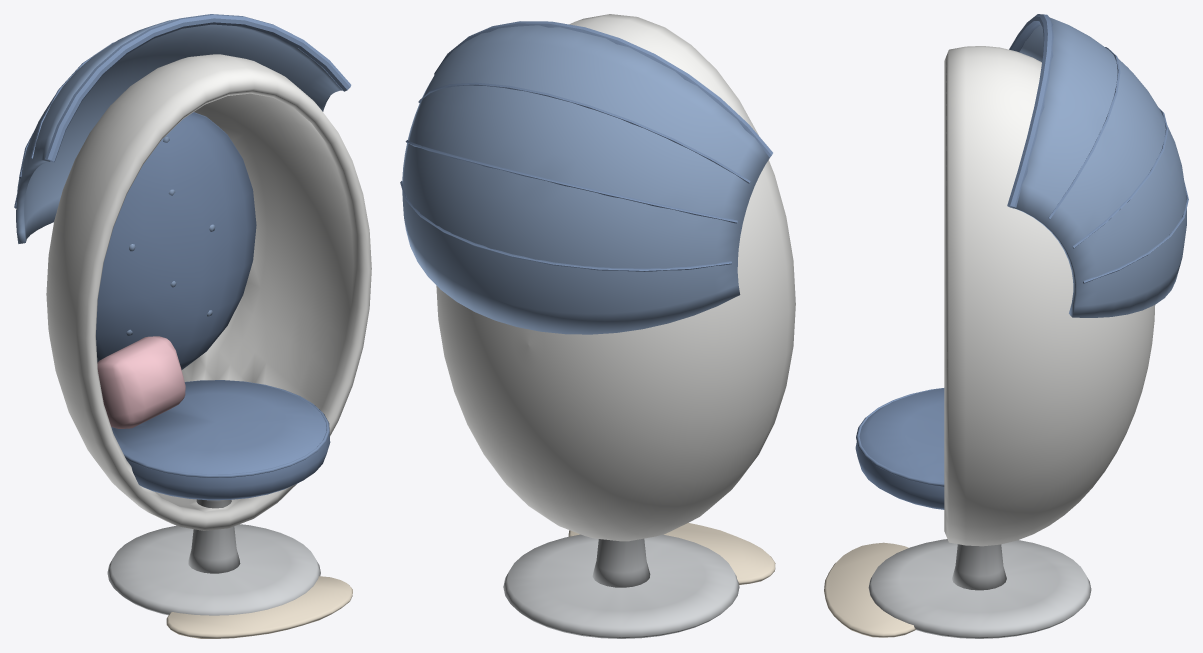
Rendered from napPod.glb.
3 views of the same model, side by side, from view 1: azimuth 30°, elevation 25°; view 2: azimuth 150°, elevation 25°; view 3: azimuth 270°, elevation 25° (orthographic). The views are drawn at different scales.
Visible parts, largest first — view 1: body, hood; view 2: body, hood; view 3: body, hood.
Part boxes in pixels (x1,y1,x2,y2): body: [46, 54, 371, 638]; hood: [14, 14, 351, 243]; body: [436, 14, 795, 638]; hood: [400, 21, 772, 334]; body: [824, 46, 1155, 638]; hood: [1007, 14, 1188, 317].
Bounding box in the file's own units: 0.9236 × 1.54 × 0.9124.
